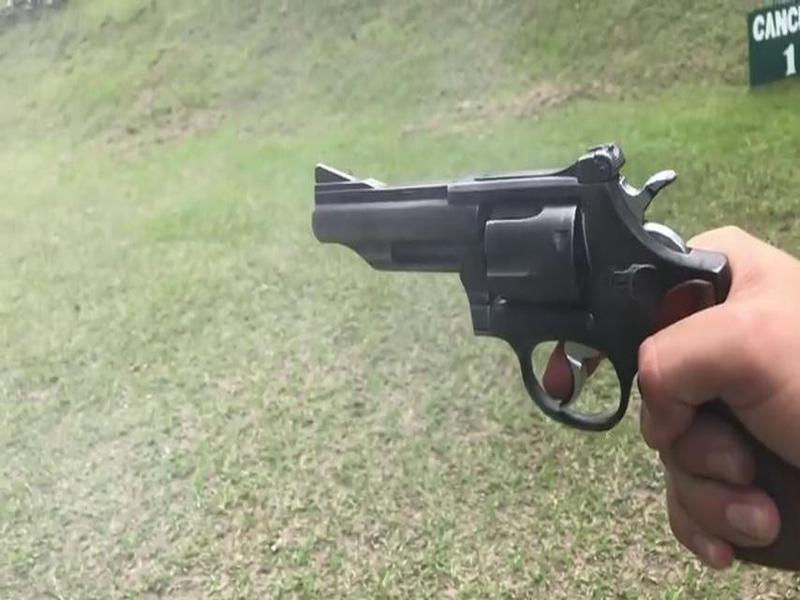Revolver: (305, 126, 763, 455)
